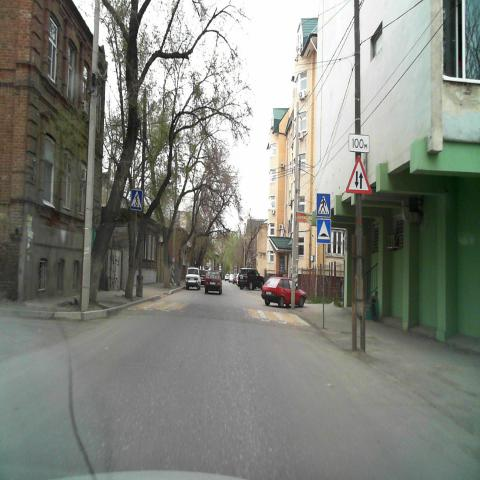1_21: (346, 155, 372, 194)
8_1_1: (349, 132, 369, 152)
